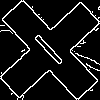I: (25, 25, 66, 68)
